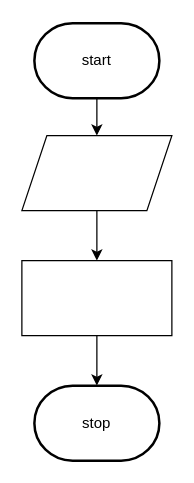
The diagram is 194 pixels wide and 483 high, and some of its shapes have lost their labels. Each missing label, with the box of its shape:
get pushedNumber: (21, 134, 172, 211)
this.stack.list (pushedNumber): (21, 259, 172, 336)
